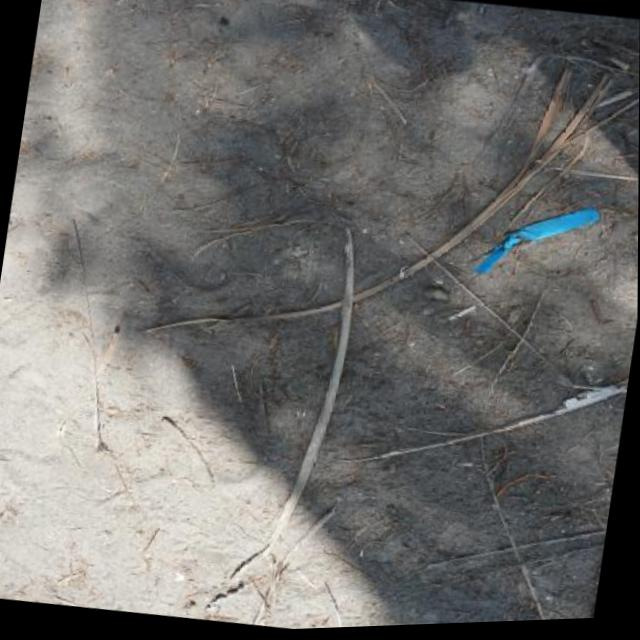plastic: (470, 190, 602, 288)
